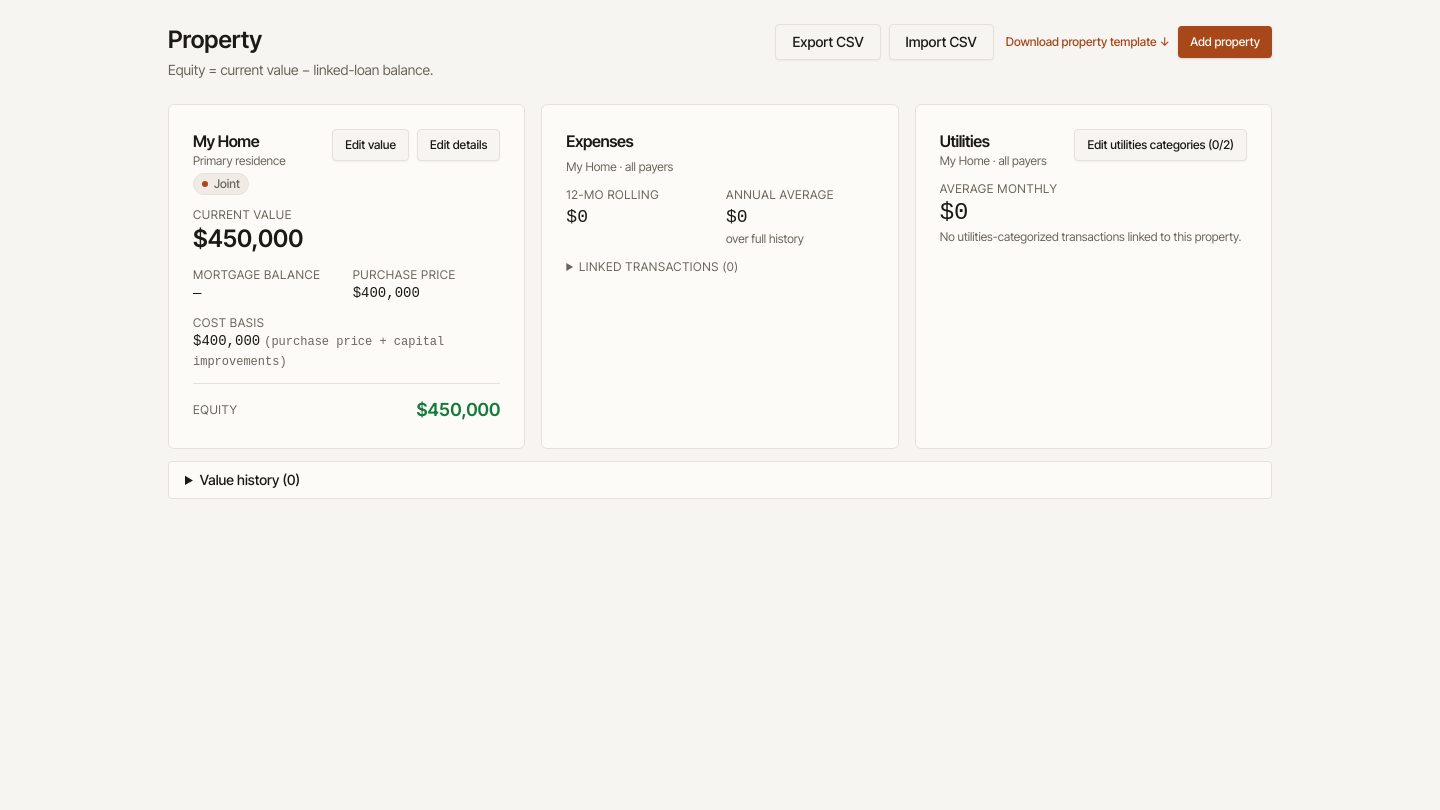
Test case: Property page › property drawer delete confirms with the tab's exact copy (W14)
This screenshot has width=1440, height=810.
Click the button with aria-label "edit details for my home" at (459, 145), box [417, 129, 500, 161]
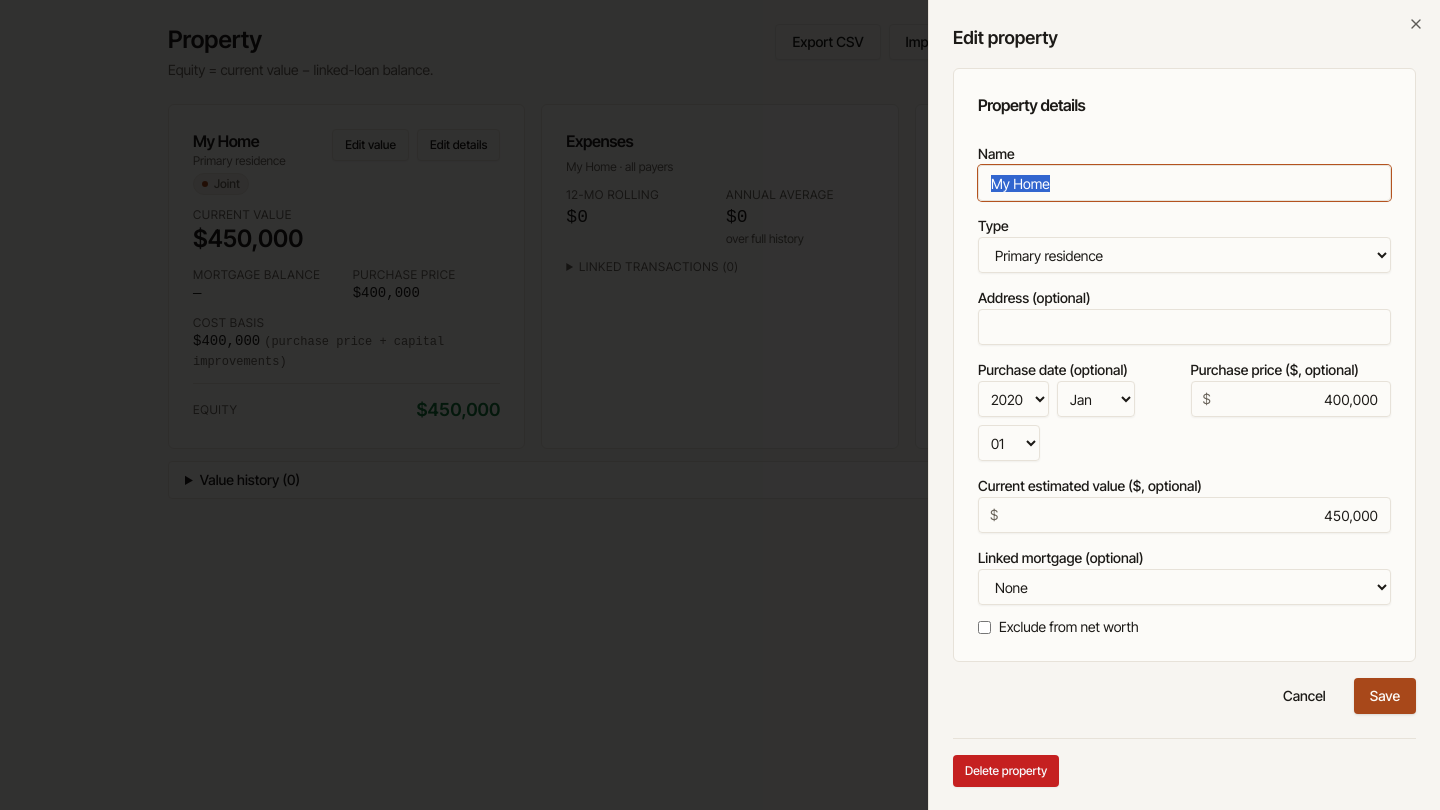
Click the button "Delete property" at (1006, 771), box [953, 755, 1059, 787]
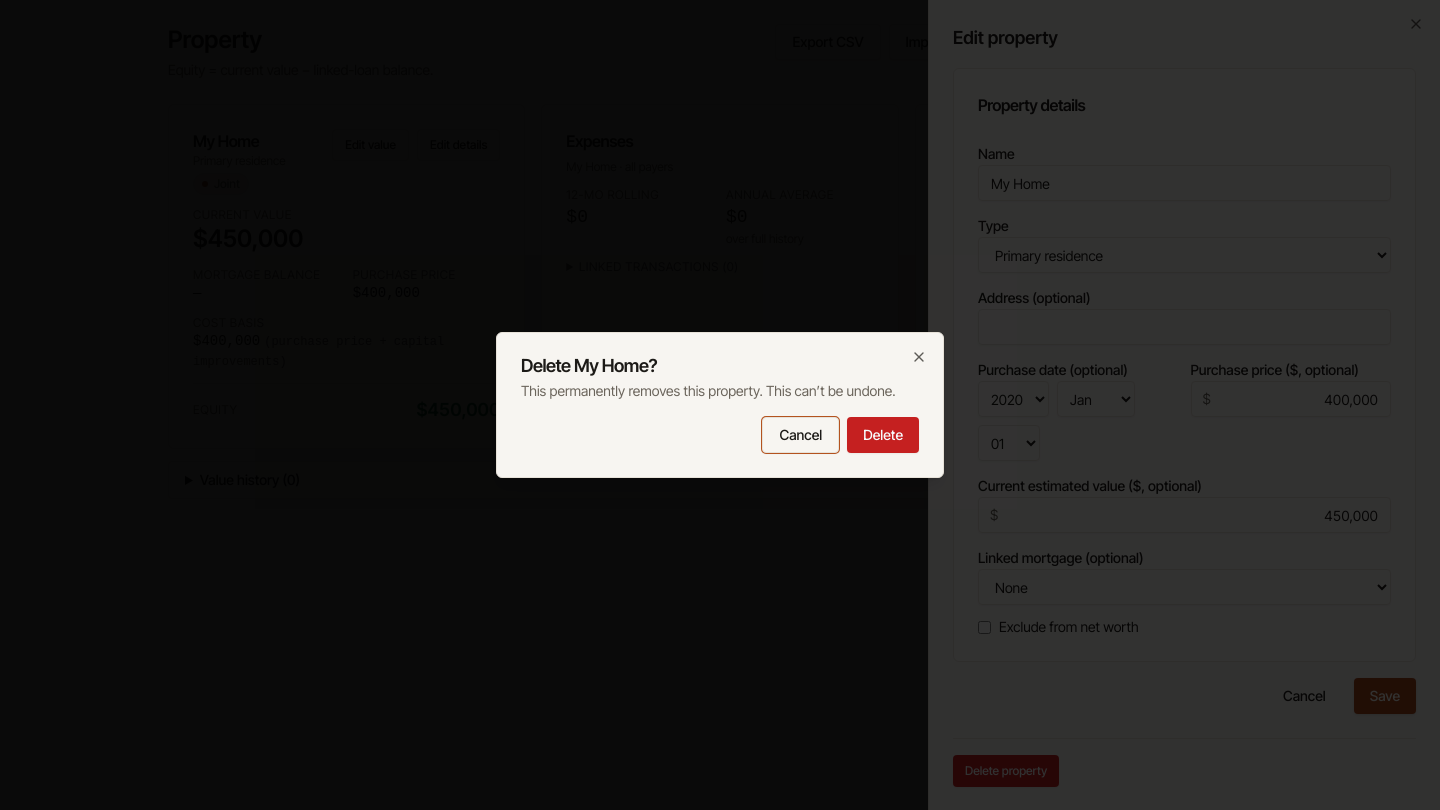
Check: the text "This permanently removes this property" is shown, box [521, 382, 896, 399]
